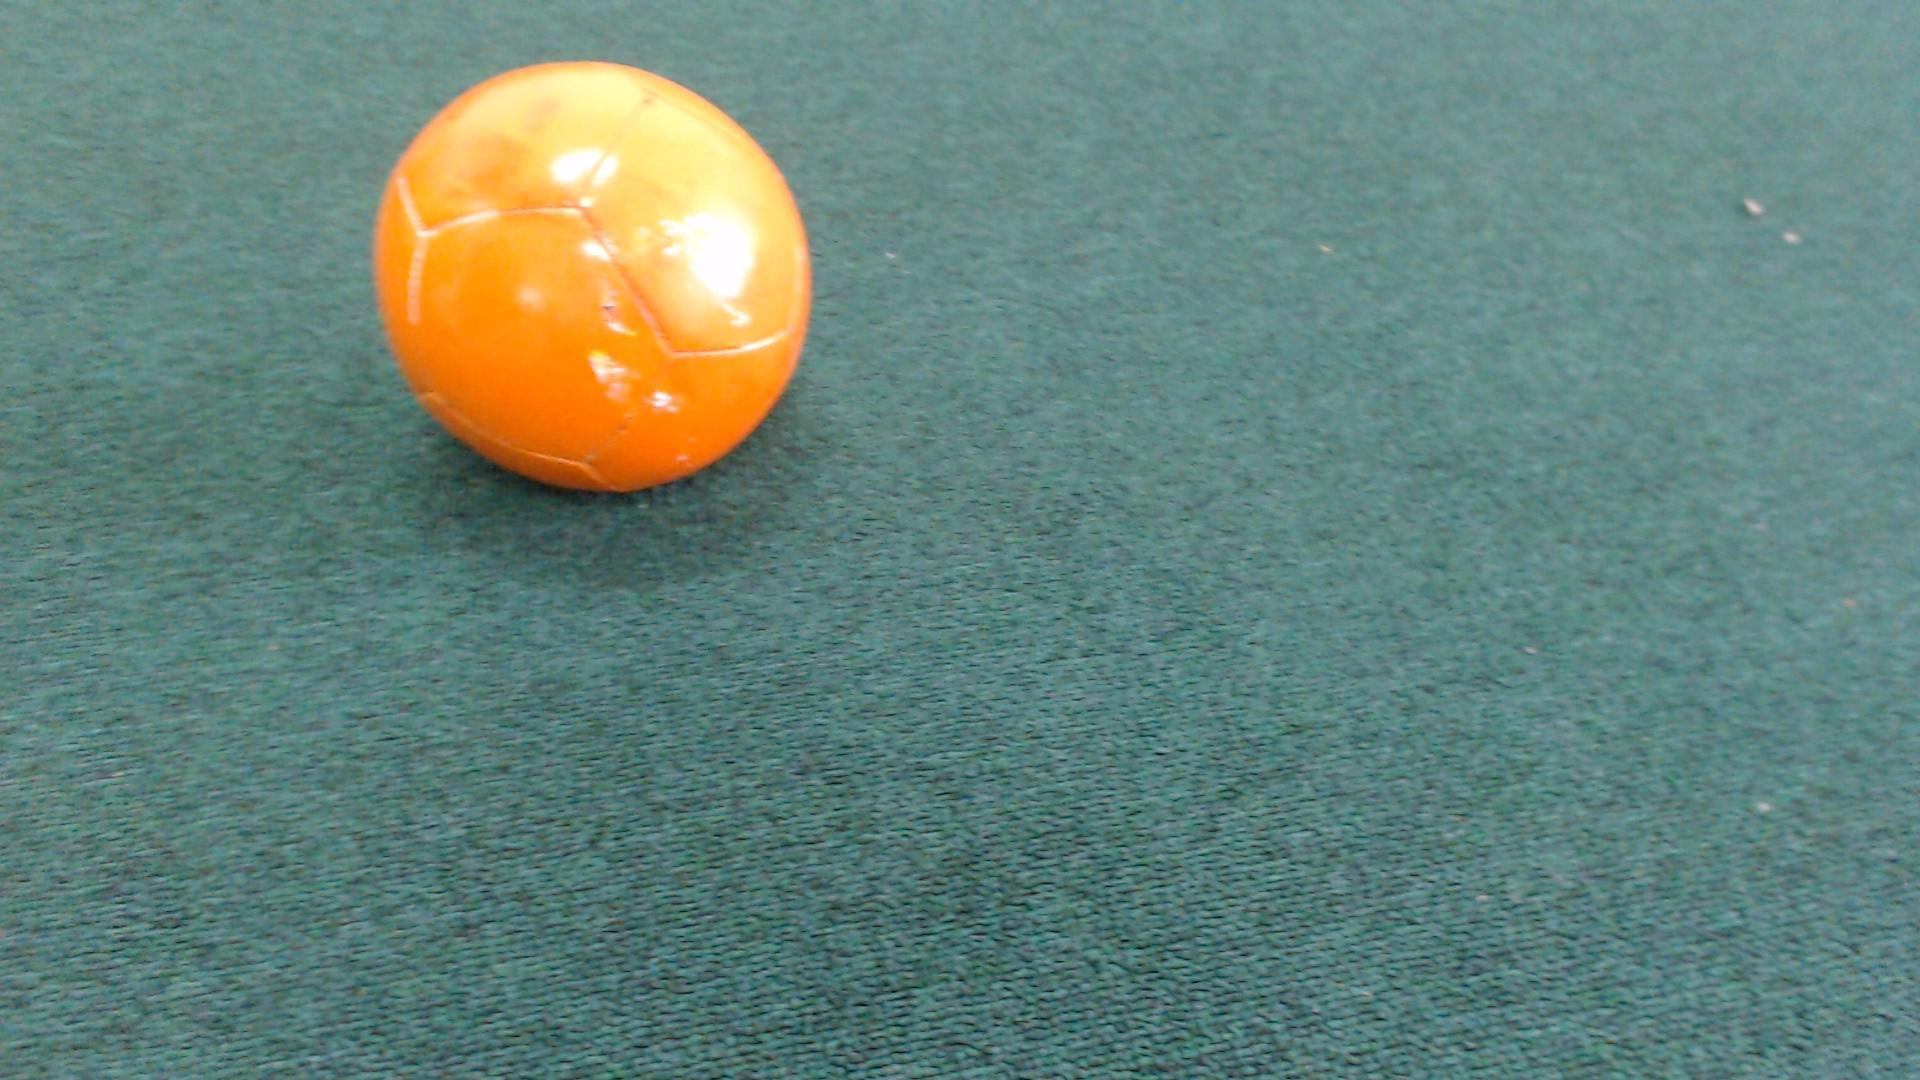bola: (332, 63, 845, 513)
